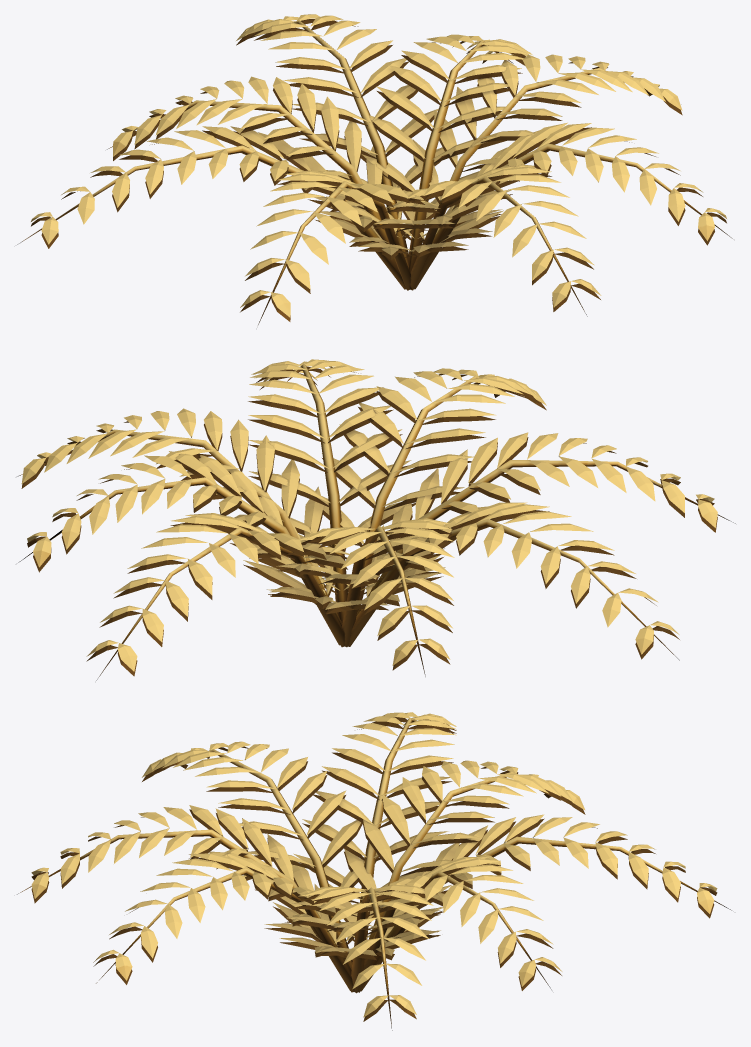
Rendered from Env_Fern_2.glb.
3 views of the same model, one above another, from view 1: azimuth 30°, elevation 25°; view 2: azimuth 150°, elevation 25°; view 3: azimuth 270°, elevation 25° (orthographic). The views are drawn at different scales.
Visible parts, largest first — view 1: Env_Fern_2.001; view 2: Env_Fern_2.001; view 3: Env_Fern_2.001.
Part boxes in pixels (x1,y1,x2,y2): Env_Fern_2.001: (17, 14, 732, 324); Env_Fern_2.001: (17, 359, 735, 680); Env_Fern_2.001: (17, 712, 731, 1030).
Size of the model in its own units: 3 by 0.7665 by 3.
Materials: 1 (1 with a texture image).
